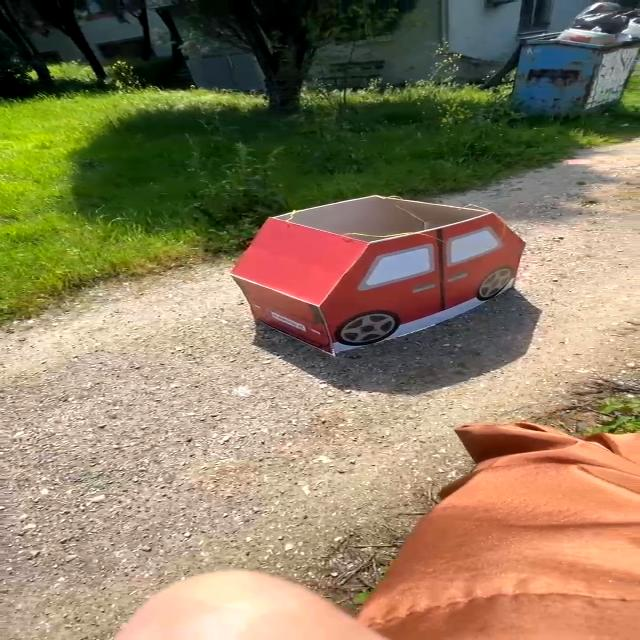red_car: (191, 186, 589, 357)
